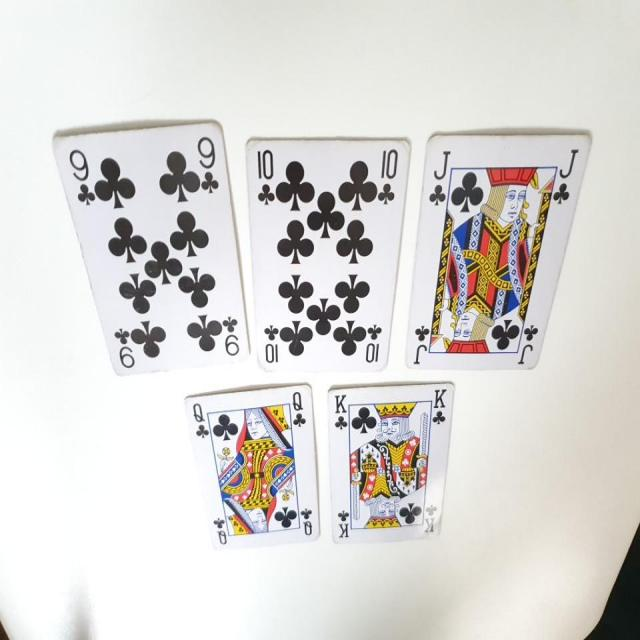10 Trefoils: (244, 138, 411, 376)
9 Trefoils: (50, 120, 251, 380)
J Trefoils: (403, 130, 590, 370)
K Trefoils: (327, 379, 457, 543)
Q Trefoils: (184, 385, 324, 548)
